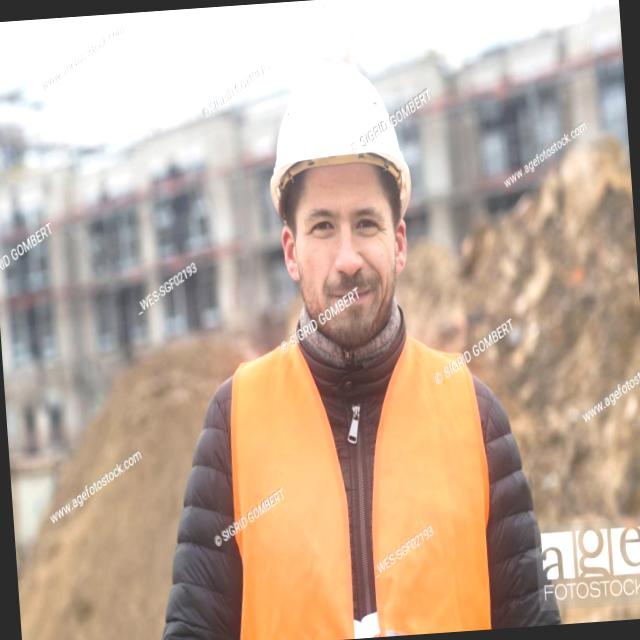helmet: (256, 50, 415, 215)
no-goggles: (290, 196, 404, 264)
vest: (212, 315, 501, 640)
